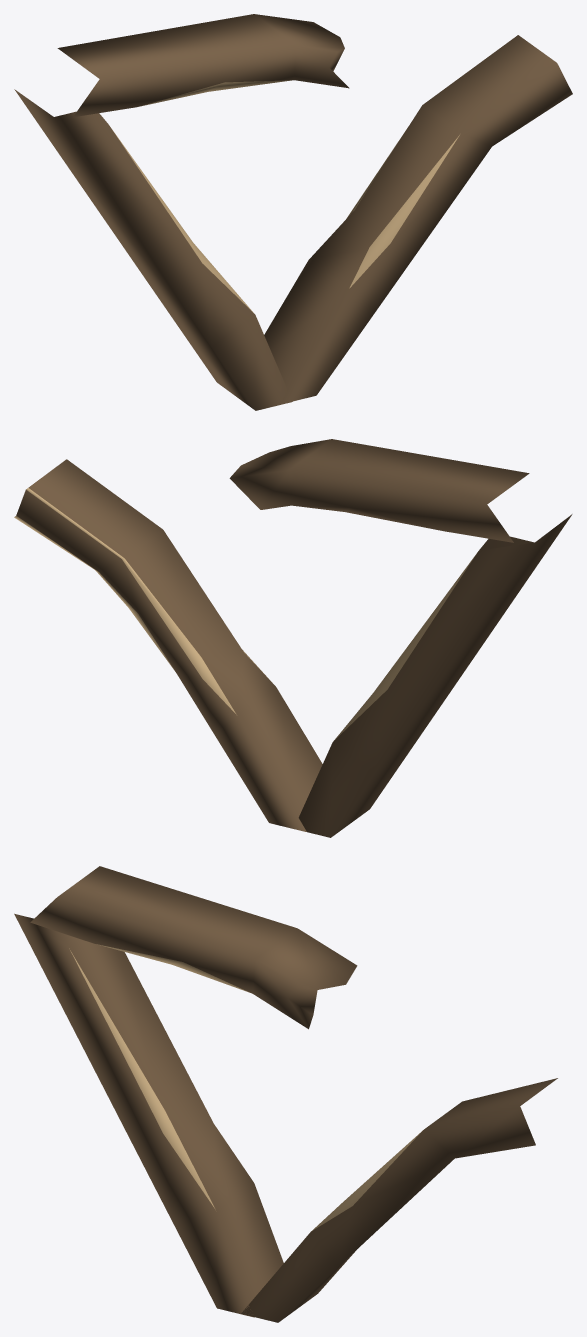
File: rpgpp_av_roof_end_01_6x5_wall_beam_d.gltf
3 renders of one model, top to bottom at view 1: azimuth 30°, elevation 25°; view 2: azimuth 150°, elevation 25°; view 3: azimuth 330°, elevation 25°, orthographic.
Parts seen in each view (by area): view 1: rpgpp_av_roof_end_01_6x5_wall_beam_d; view 2: rpgpp_av_roof_end_01_6x5_wall_beam_d; view 3: rpgpp_av_roof_end_01_6x5_wall_beam_d.
Part boxes in pixels (x1,y1,x2,y2): rpgpp_av_roof_end_01_6x5_wall_beam_d: (14, 14, 572, 410); rpgpp_av_roof_end_01_6x5_wall_beam_d: (14, 439, 572, 837); rpgpp_av_roof_end_01_6x5_wall_beam_d: (14, 866, 557, 1322).
Size of the model in its own units: 0.0398 by 0.0271 by 0.00562.
Materials: 1 (1 with a texture image).
